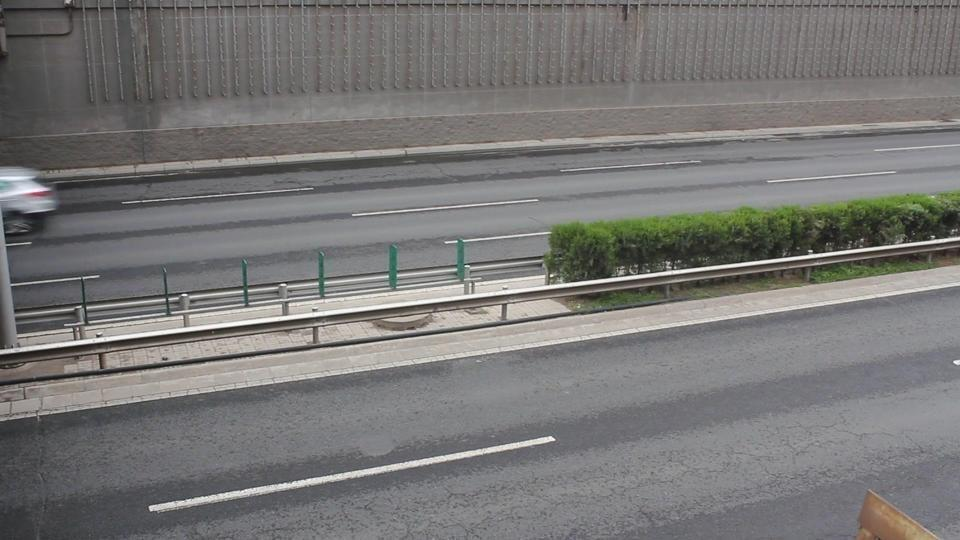car: (0, 167, 61, 243)
